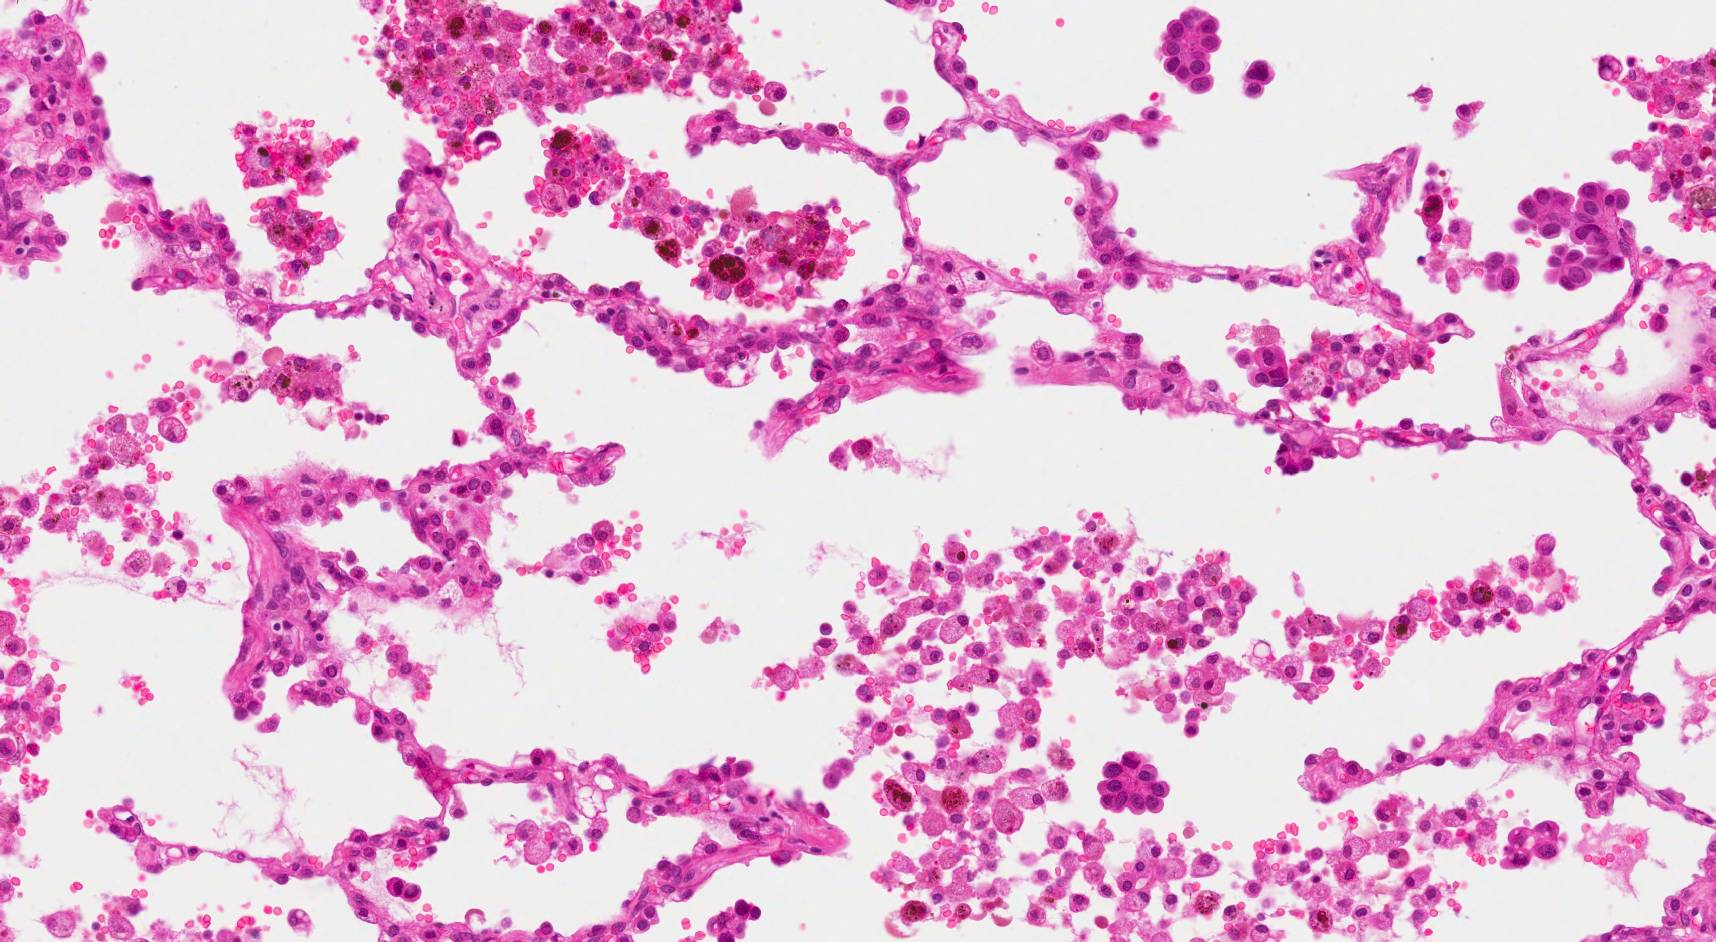stas: (1152, 2, 1228, 96), (1093, 749, 1175, 817), (1501, 821, 1564, 870), (1231, 343, 1293, 388), (1239, 52, 1280, 103), (383, 869, 425, 905)
